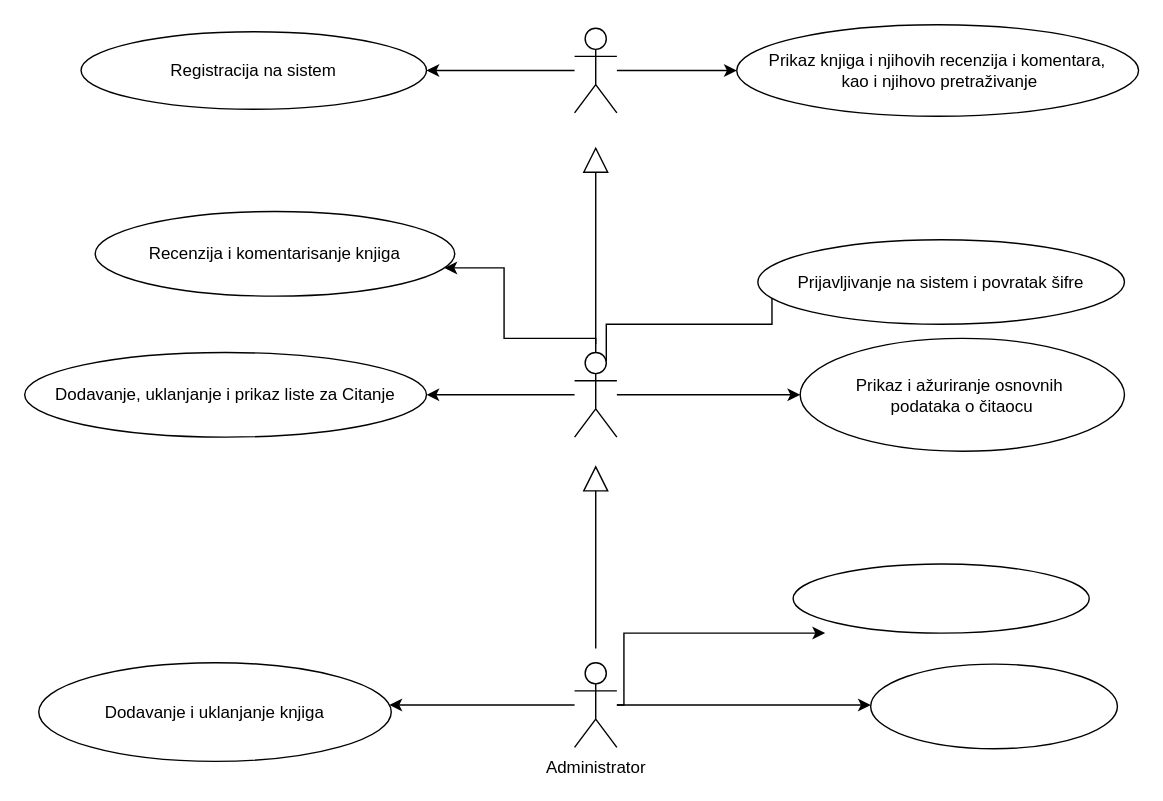
Some shapes in this 1163 by 801 pixel diagram are drawn without their labels. Each missing label, with the centre of its shape:
"Kreiranje i brisanje čitalaca" belongs at [940,598].
"Neulogovani korisnik" belongs at [595,70].
"Prikaz liste čitalaca" belongs at [993,706].
"Ulogovani korisnik" belongs at [595,394].
